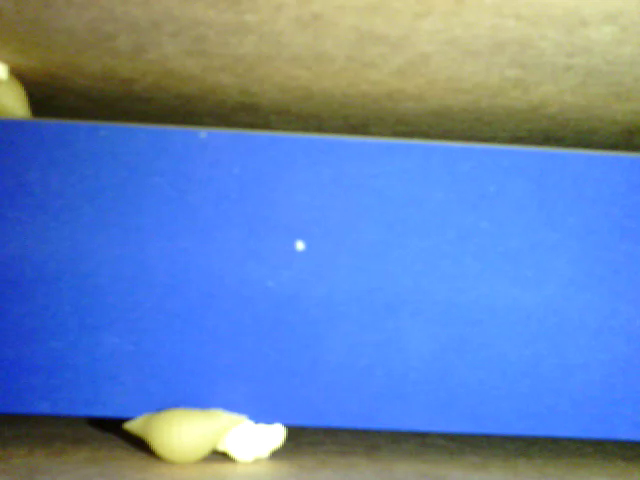shell: (118, 407, 247, 468)
